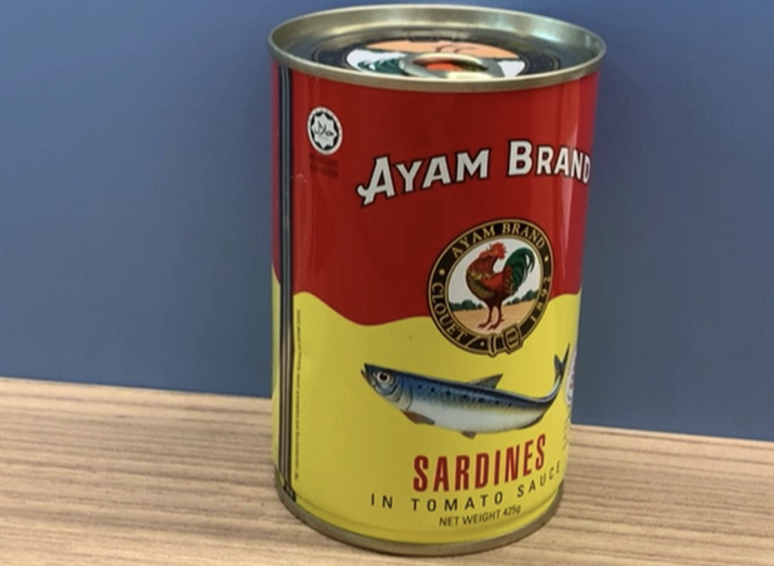sardines_400g-499g: (297, 54, 573, 520)
